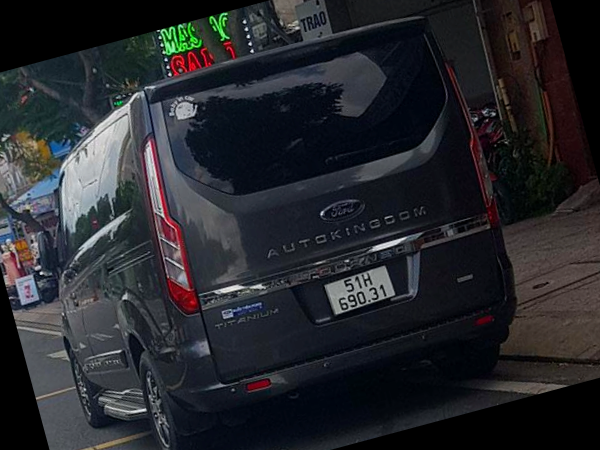lisence: (323, 264, 397, 317)
